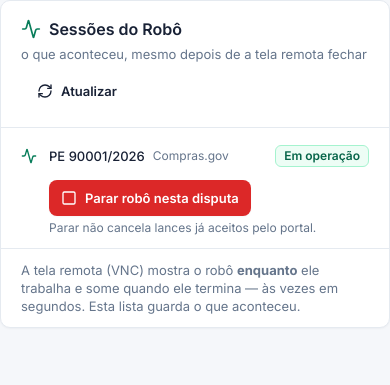
Test: SessoesDoRobo — parar uma sessão › falhou: mostra o motivo REAL do servidor e oferece tentar de novo
The width and height of the screenshot is (390, 385).
Later steps or results of the test are not shown.
Click the button "Parar robô nesta disputa": (150, 198) [49,180,251,216]
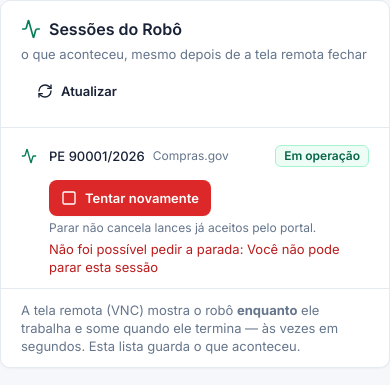
Now the text "Não foi possível pedir a parada: Você não pode parar esta sessão" is shown, box [49,240,369,276]
